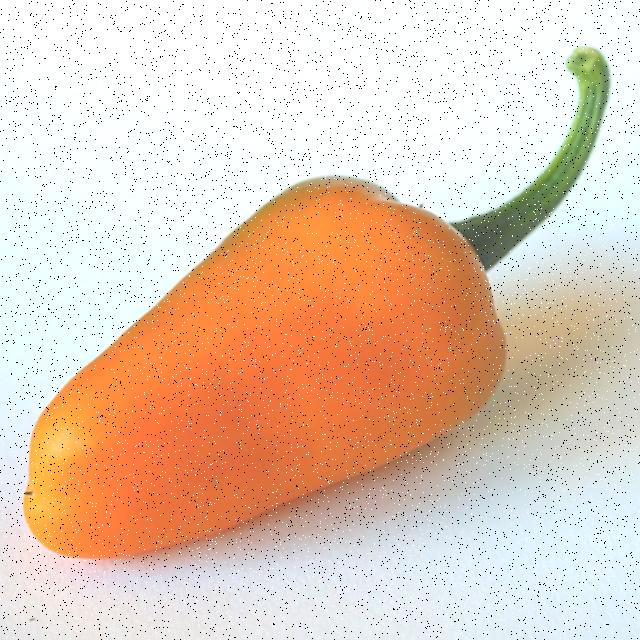Chili Pepper: (10, 71, 605, 578)
